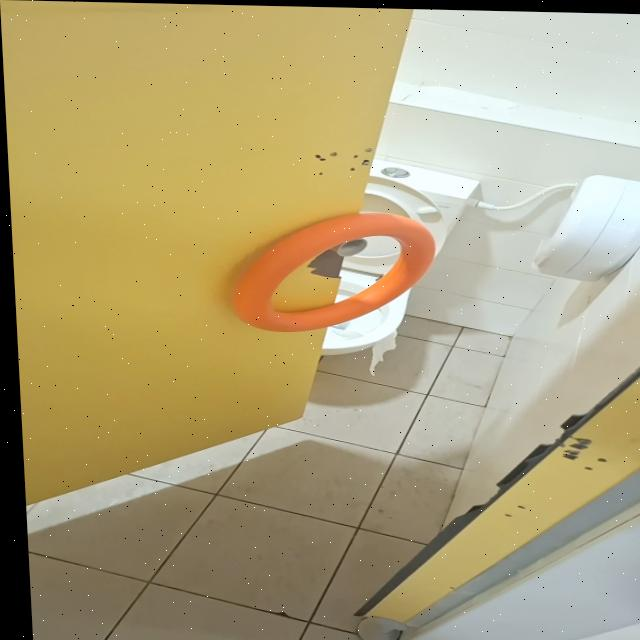note: (223, 206, 439, 335)
